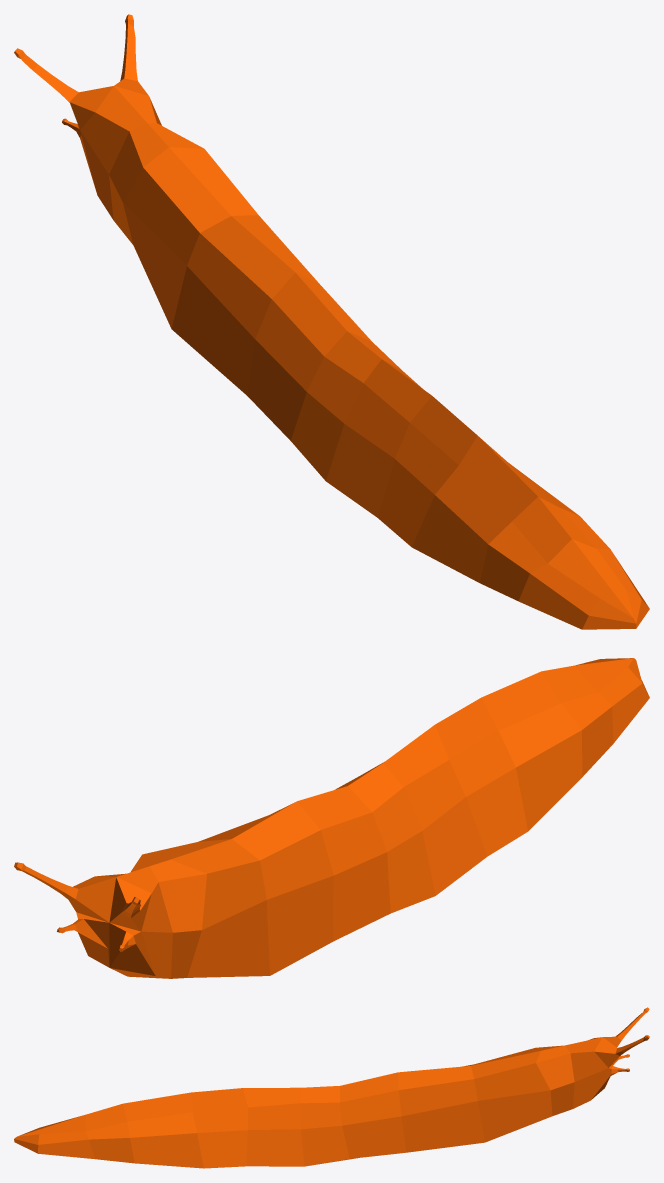
Rendered from slug.fbx.
The picture shows the model from 3 angles, top to bottom: view 1: azimuth 30°, elevation 25°; view 2: azimuth 150°, elevation 25°; view 3: azimuth 270°, elevation 25°; orthographic projection. The views are drawn at different scales.
Visible parts, largest first — view 1: slug body; view 2: slug body; view 3: slug body.
Boxes of the visible parts, left/top/right/bottom form: slug body: left=14, top=14, right=649, bottom=629; slug body: left=14, top=658, right=649, bottom=978; slug body: left=14, top=1007, right=649, bottom=1168.
Bounding box in the file's own units: 73.04 × 118 × 515.
